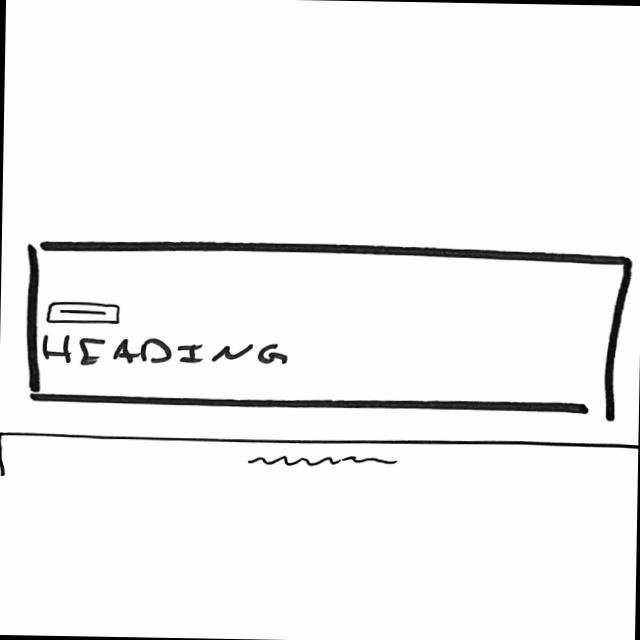container: (22, 236, 636, 415)
icon-button: (42, 298, 126, 326)
label: (39, 330, 288, 373)
text: (244, 449, 398, 474)
